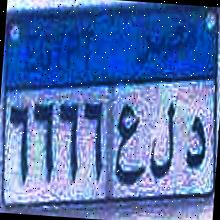6: (26, 98, 59, 188), (78, 98, 108, 188), (54, 100, 83, 182), (4, 103, 32, 185)
ain: (112, 97, 150, 193)
daal: (178, 104, 209, 178)
laam: (145, 90, 180, 186)
